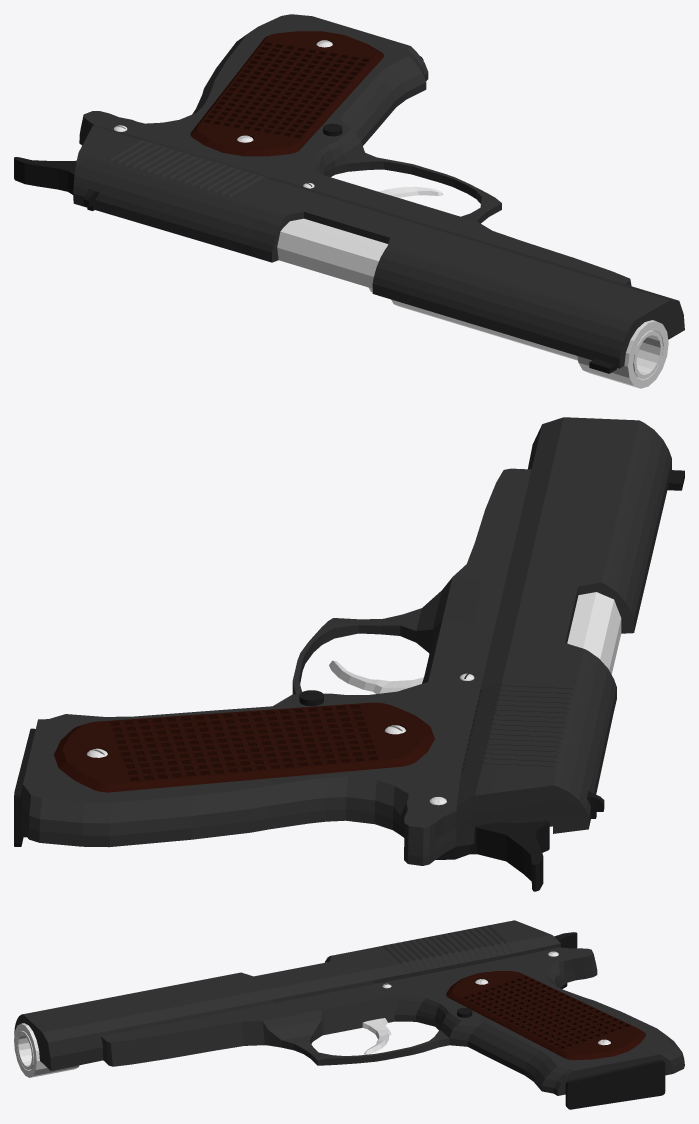
The model's file is glock.glb.
3 renders of one model, top to bottom at view 1: azimuth 30°, elevation 25°; view 2: azimuth 150°, elevation 25°; view 3: azimuth 270°, elevation 25°, orthographic. The views are drawn at different scales.
Parts seen in each view (by area): view 1: Pistol, Handle, Sphere.004, Cube.002, Cylinder, Cube.005, Cylinder.002; view 2: Pistol, Handle, Sphere.004, Cube.005, Cube.002, Cube, Handle.001; view 3: Handle, Pistol, Sphere.004, Handle.001, Cylinder, Cube, Cylinder.002, Cube.005.
Part boxes in pixels (box(x1,y1,x2,y2)): Pistol: box(73, 125, 684, 368); Handle: box(79, 14, 631, 285); Sphere.004: box(190, 31, 383, 156); Cube.002: box(277, 218, 387, 288); Cylinder: box(391, 299, 668, 388); Cube.005: box(14, 157, 76, 194); Cylinder.002: box(368, 287, 663, 378); Pistol: box(456, 417, 671, 846); Handle: box(20, 468, 531, 865); Sphere.004: box(54, 702, 434, 792); Cube.005: box(436, 820, 549, 891); Cube.002: box(567, 592, 621, 674); Cube: box(329, 660, 423, 693); Handle.001: box(14, 728, 35, 846); Handle: box(101, 947, 684, 1095); Pistol: box(14, 920, 560, 1070); Sphere.004: box(446, 971, 645, 1060); Handle.001: box(565, 1059, 665, 1109); Cylinder: box(14, 1023, 79, 1077); Cube: box(362, 1018, 391, 1054); Cylinder.002: box(17, 1031, 33, 1070); Cube.005: box(554, 932, 577, 988).
Size of the model in its own units: 2.83 by 0.48 by 5.15.
